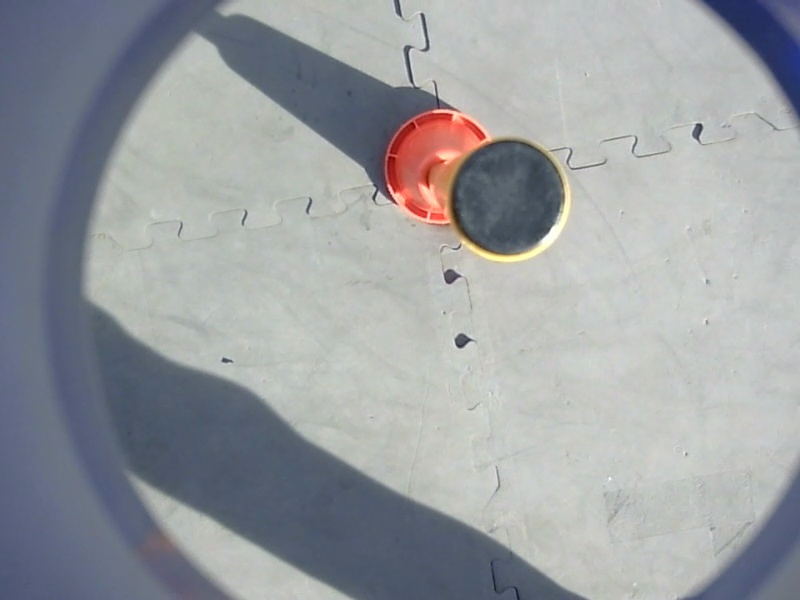tip: (439, 132, 577, 271)
